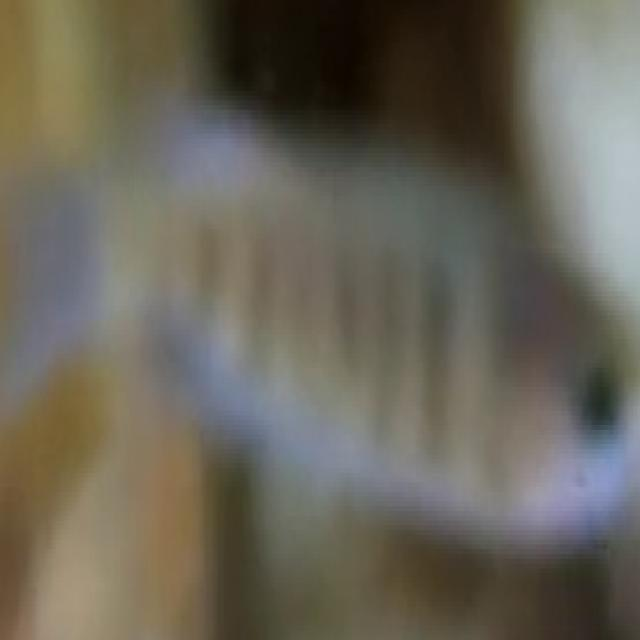fish: (0, 0, 638, 635)
